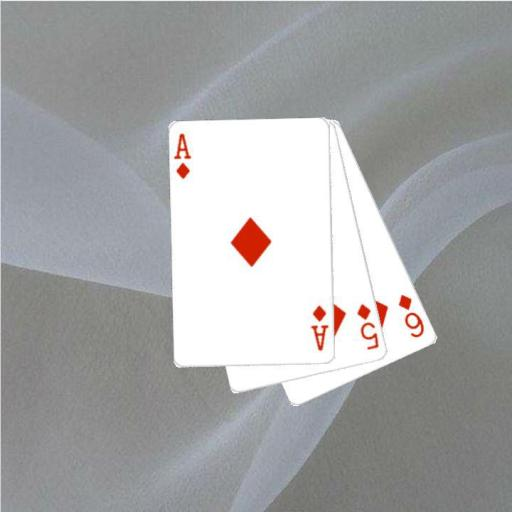5D: (354, 301, 381, 351)
6D: (395, 291, 427, 340)
AD: (308, 302, 330, 352), (172, 131, 194, 181)
